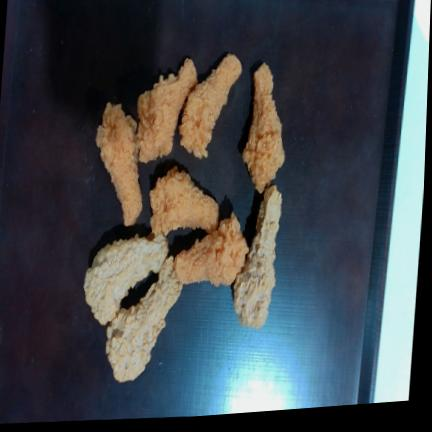chicken: (106, 257, 183, 382), (84, 235, 168, 325), (234, 185, 282, 328), (180, 54, 242, 157), (137, 58, 197, 162), (96, 103, 142, 225), (174, 213, 249, 286), (243, 63, 285, 192), (151, 166, 219, 235)
